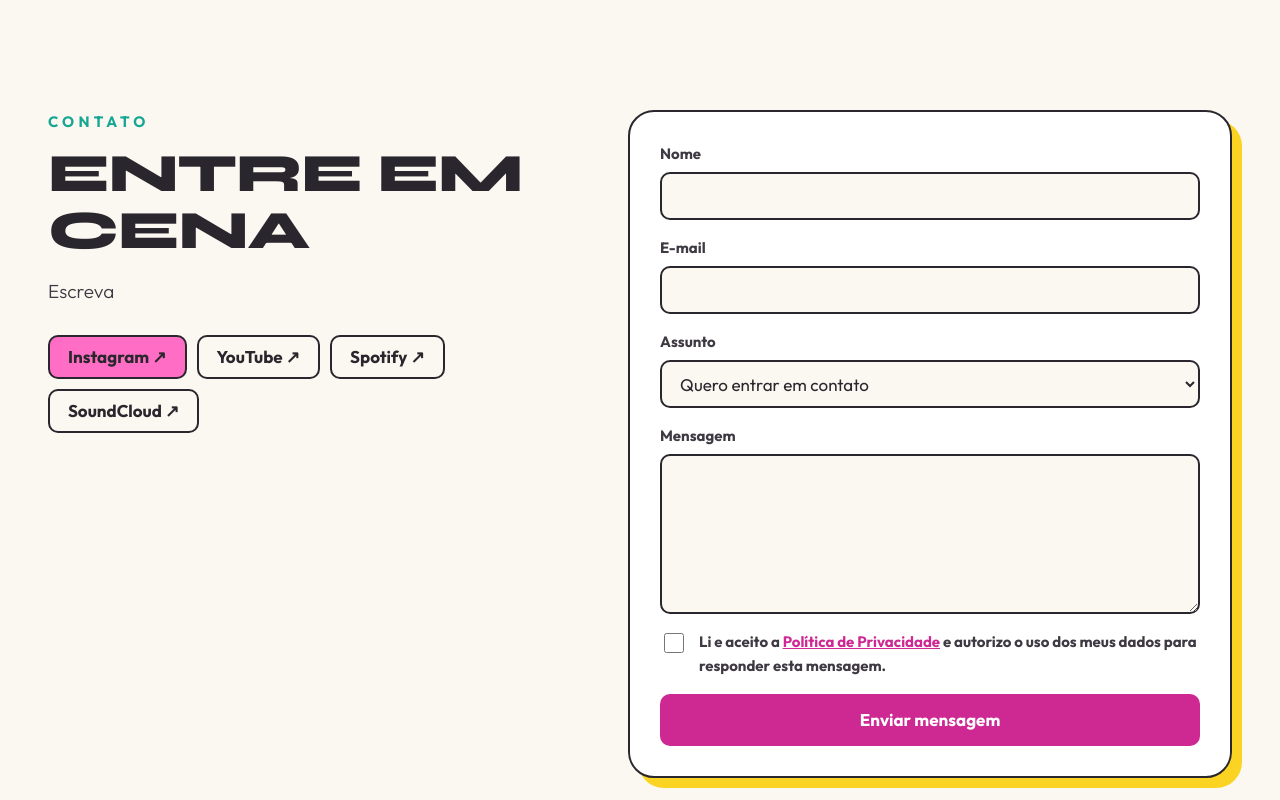
Test: Contact › mostra erro amigável quando o servidor falha e mantém os dados
Type "Maria Silva" into the field labelled "Nome" at (930, 196), box [660,172,1200,220]
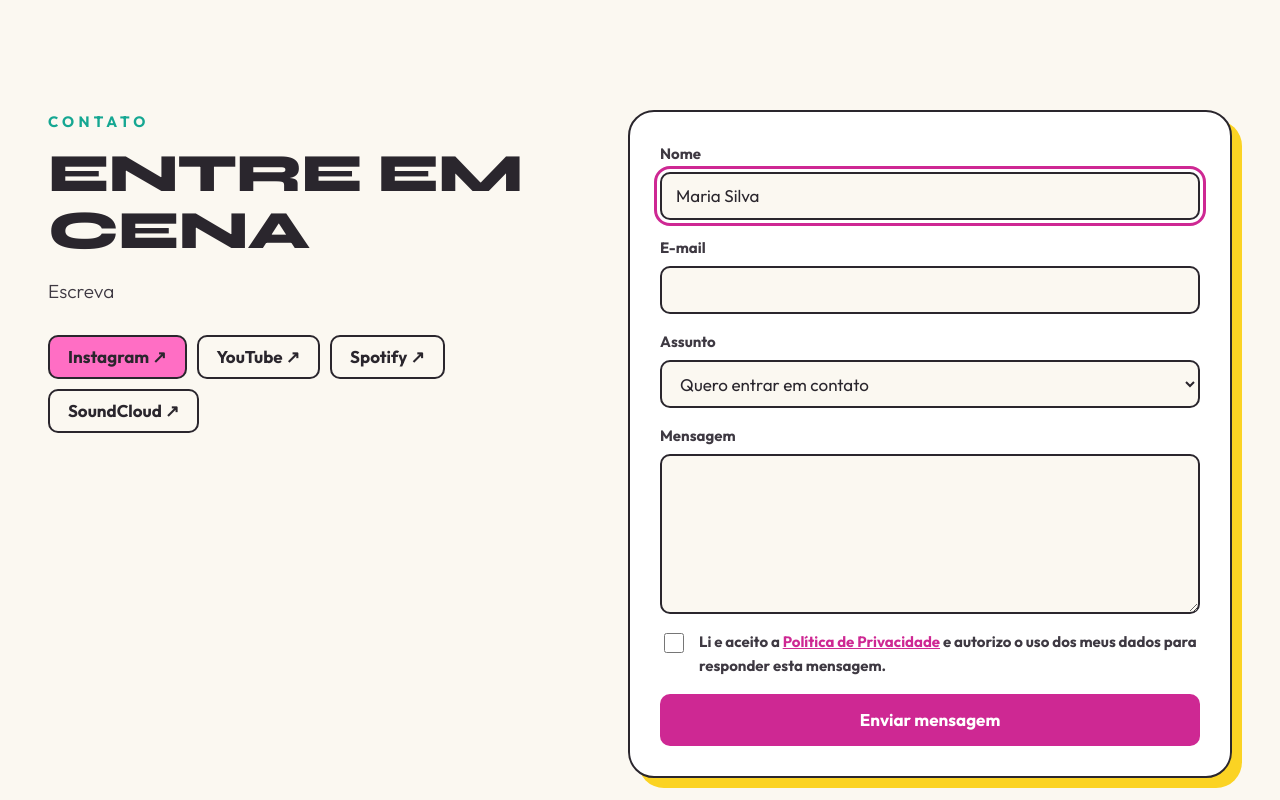
Type "maria@exemplo.com" into the field labelled "E-mail" at (930, 290), box [660,266,1200,314]
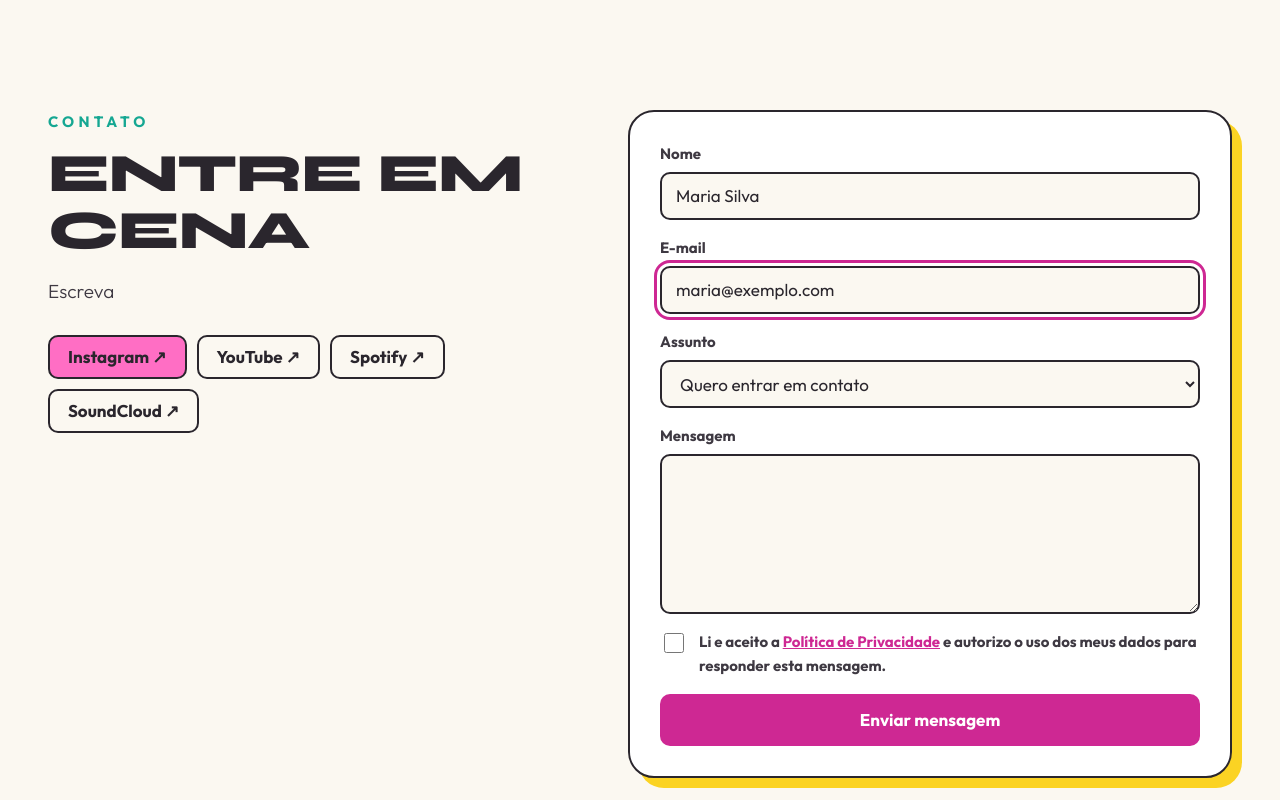
Type "Gostaria de participar do movimento." into the text box labelled "Mensagem" at (930, 534), box [660,454,1200,614]
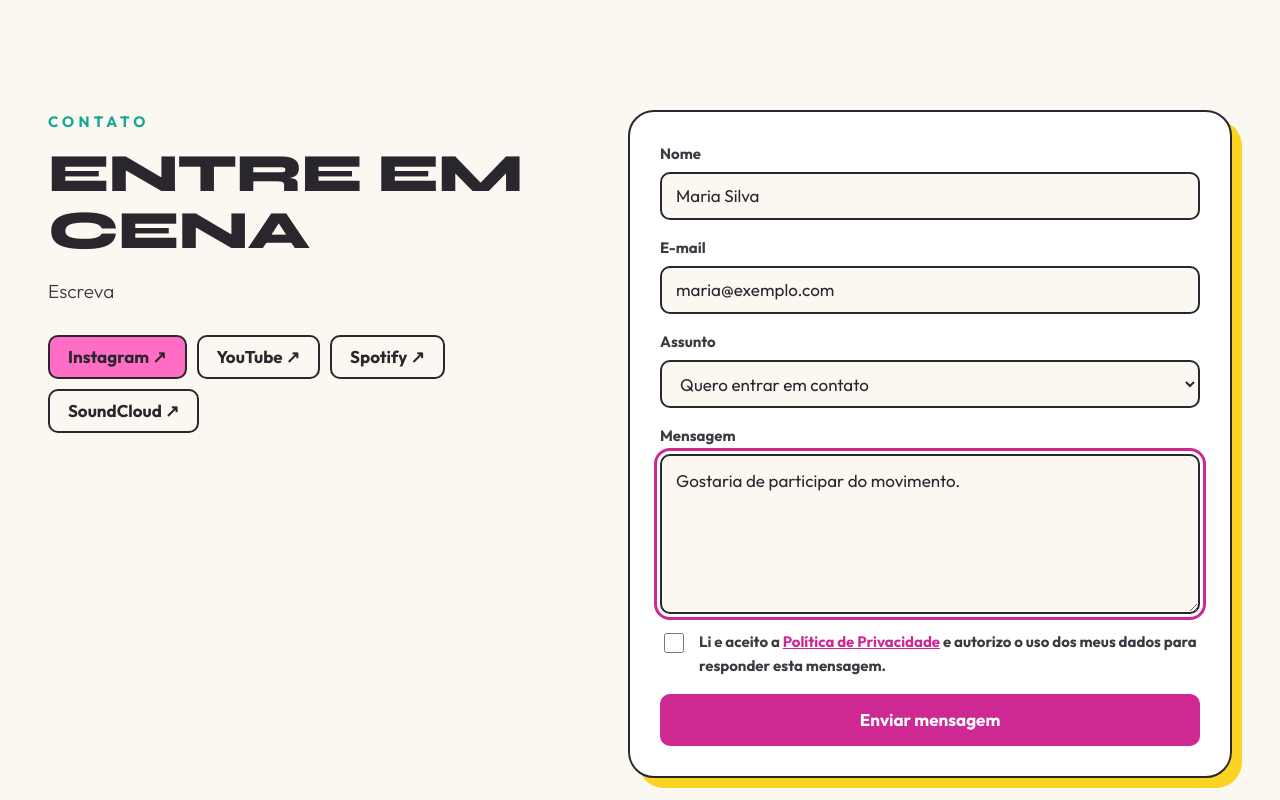
Click the checkbox labelled "Li e aceito" at (674, 643), box [664,633,684,653]
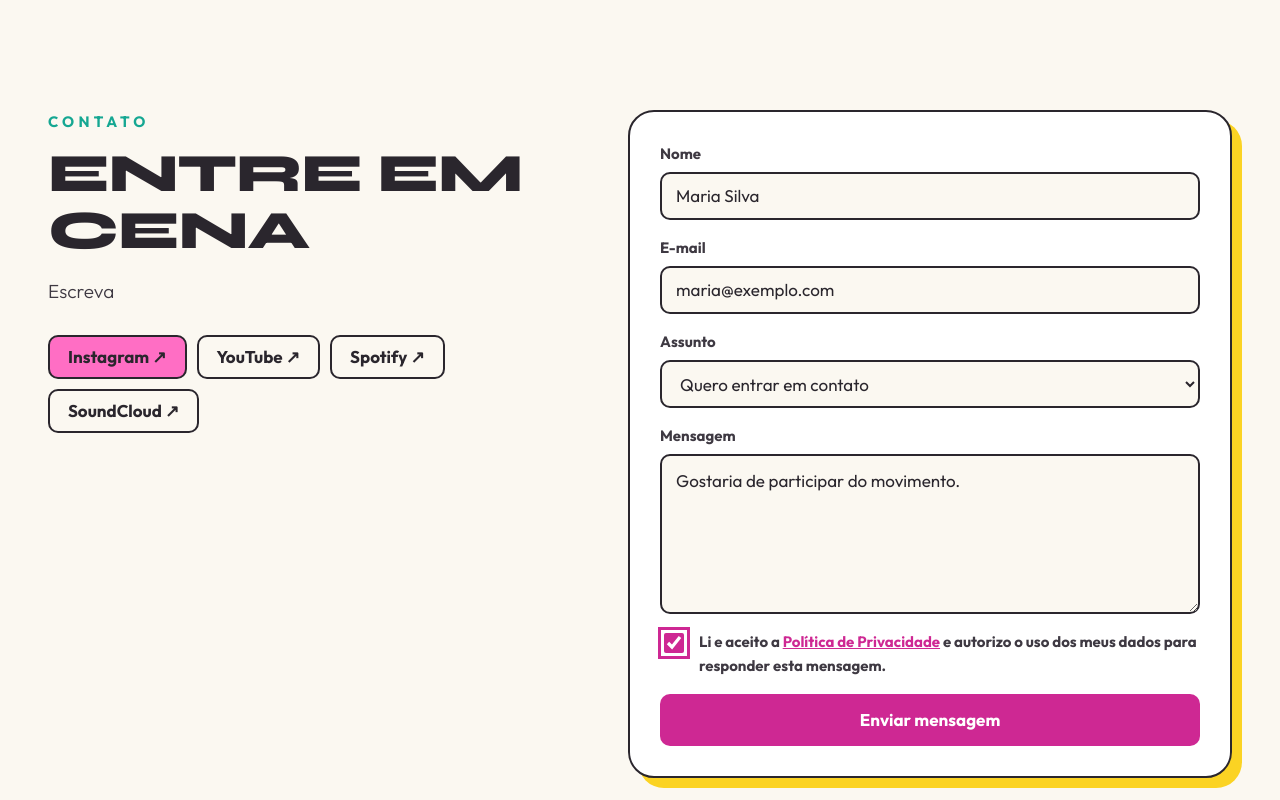
Click the button "Enviar mensagem" at (930, 720), box [660,694,1200,746]
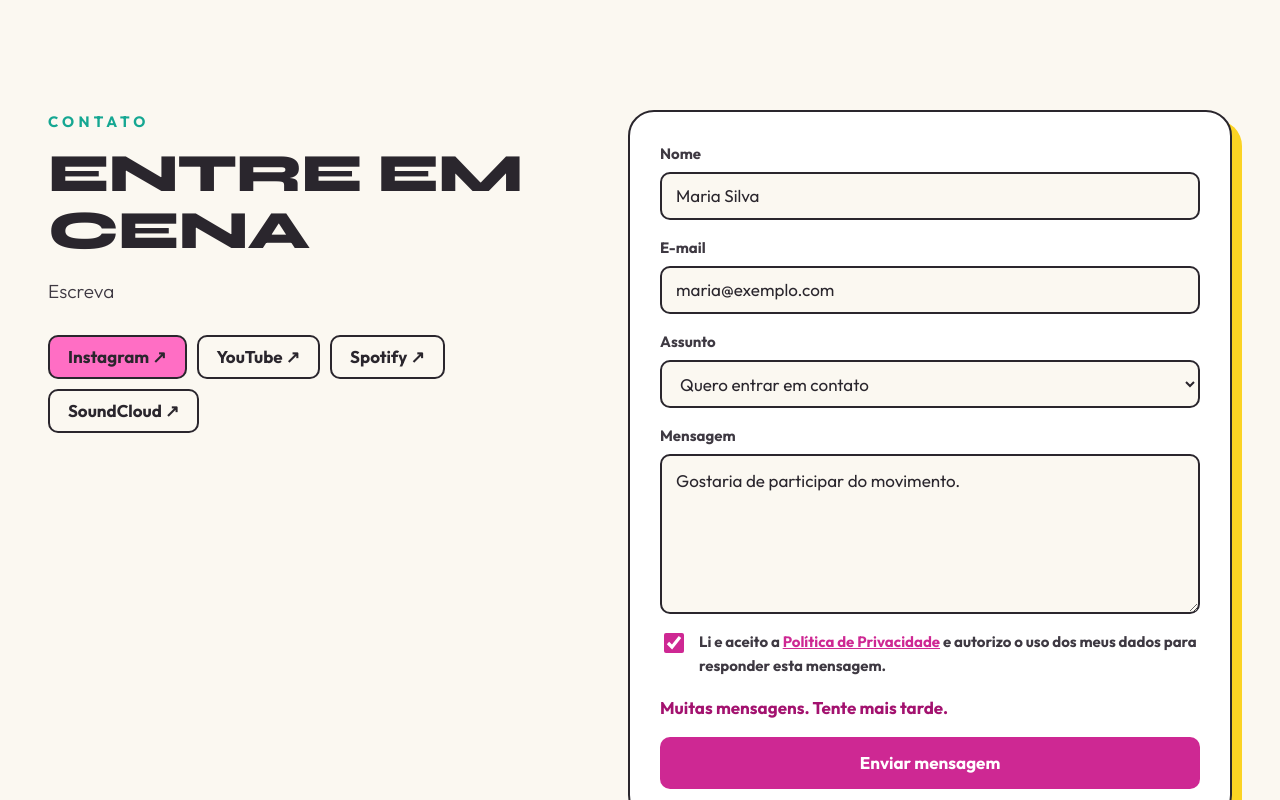
Check: the message shows "Muitas mensagens", box [660,697,948,718]
